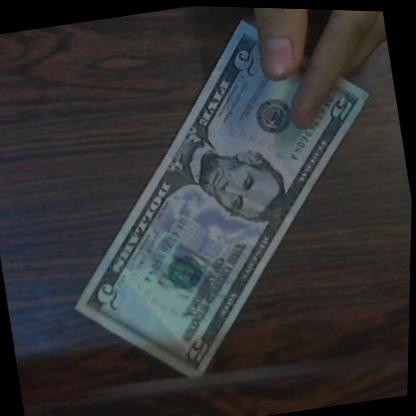five-front: (26, 1, 416, 402)
